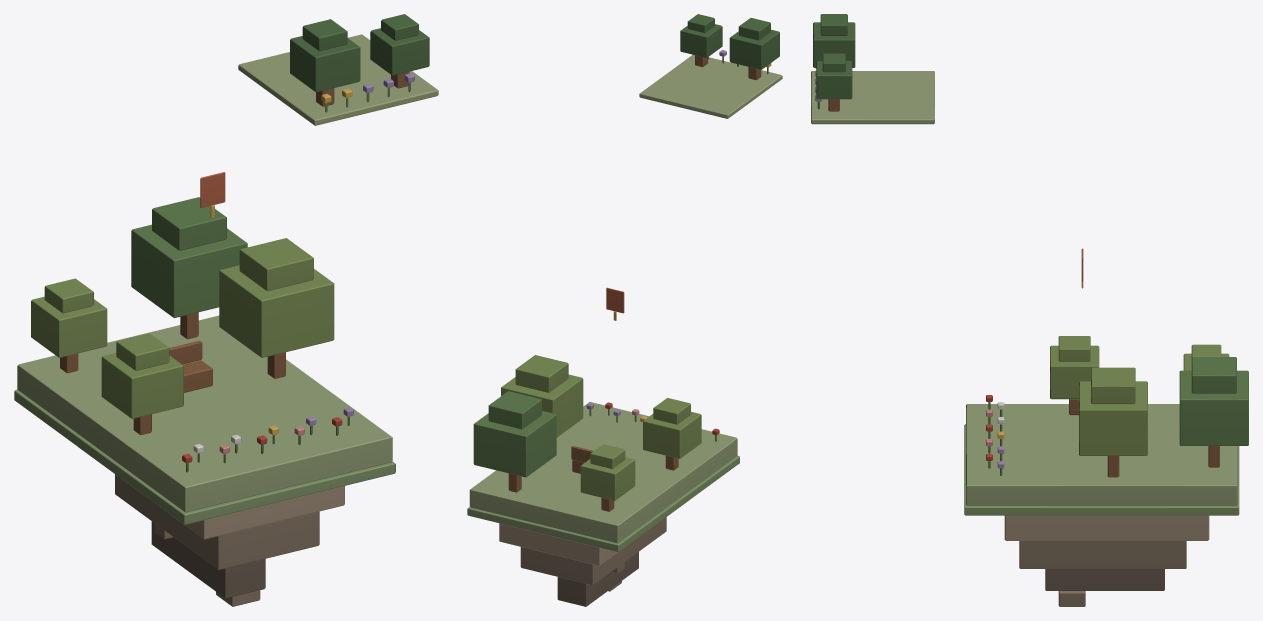
File: region_17.glb
The picture shows the model from 3 angles, left to right: view 1: azimuth 30°, elevation 25°; view 2: azimuth 150°, elevation 25°; view 3: azimuth 270°, elevation 25°; orthographic projection. The views are drawn at different scales.
Parts seen in each view (by area): view 1: region_17_static, region_17_kite; view 2: region_17_static, region_17_kite; view 3: region_17_static.
Part boxes in pixels (box(x1,y1,x2,y2)): region_17_static: box(14, 14, 438, 606); region_17_kite: box(200, 172, 225, 218); region_17_static: box(467, 14, 782, 606); region_17_kite: box(606, 287, 624, 320); region_17_static: box(811, 14, 1248, 606).
Size of the model in its own units: 5.34 by 15.89 by 11.3.
